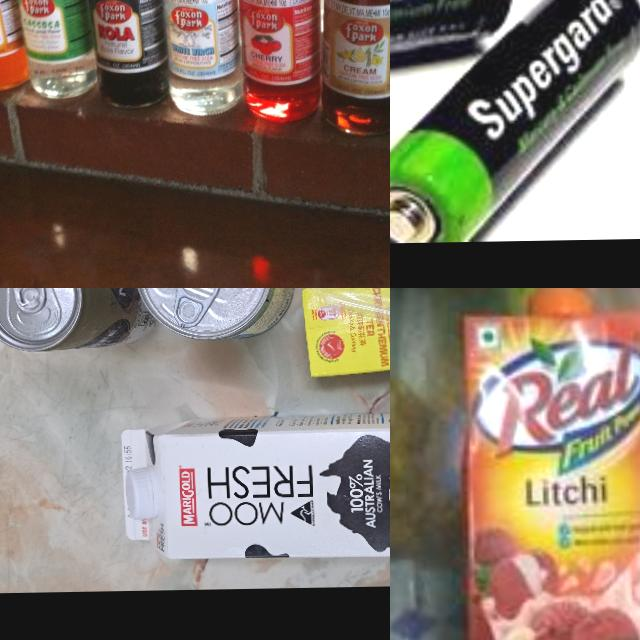aba de lata: (170, 288, 219, 327), (10, 288, 45, 311)
bateria: (390, 0, 640, 244)
caixinha: (462, 304, 640, 640), (118, 410, 390, 562), (301, 288, 390, 378)
garrafa de vidro: (235, 0, 324, 127), (151, 0, 244, 115), (318, 0, 390, 134), (78, 0, 167, 108), (8, 0, 97, 101)
lata: (0, 288, 154, 352), (136, 288, 293, 345)
tampa plástica: (122, 464, 159, 522), (525, 288, 592, 320)
